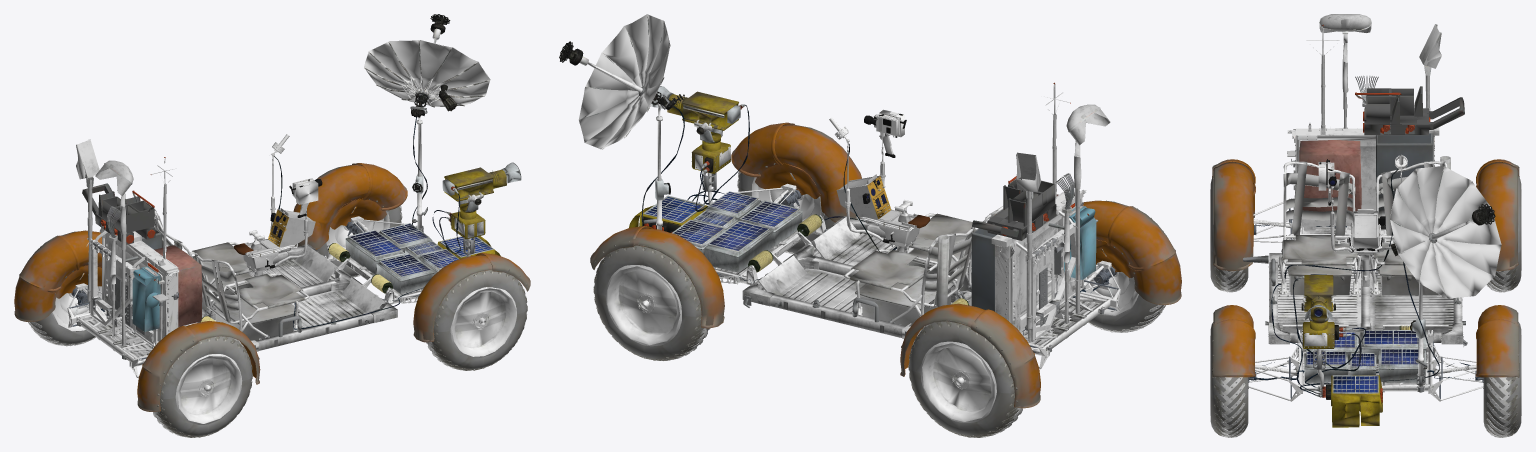
File: lrv.glb
3 renders of one model, left to right at view 1: azimuth 30°, elevation 25°; view 2: azimuth 150°, elevation 25°; view 3: azimuth 270°, elevation 25°, orthographic. The views are drawn at different scales.
Visible parts, largest first — view 1: Object_8, Object_16, Object_11, Object_6, Object_13, Object_17, Object_12, Object_14; view 2: Object_8, Object_16, Object_11, Object_6, Object_13, Object_17, Object_12, Object_14; view 3: Object_8, Object_16, Object_11, Object_17, Object_13, Object_6, Object_14, Object_12.
Part boxes in pixels (left/top/right/bottom): Object_8: left=14, top=163, right=530, bottom=437; Object_16: left=76, top=139, right=202, bottom=346; Object_11: left=274, top=14, right=521, bottom=329; Object_6: left=70, top=243, right=423, bottom=367; Object_13: left=154, top=209, right=309, bottom=340; Object_17: left=364, top=40, right=490, bottom=106; Object_12: left=234, top=134, right=322, bottom=276; Object_14: left=67, top=215, right=485, bottom=377; Object_8: left=590, top=122, right=1181, bottom=437; Object_16: left=971, top=82, right=1110, bottom=342; Object_11: left=559, top=15, right=896, bottom=272; Object_6: left=713, top=214, right=1117, bottom=357; Object_13: left=844, top=206, right=1003, bottom=326; Object_17: left=578, top=14, right=669, bottom=149; Object_12: left=829, top=109, right=930, bottom=252; Object_14: left=691, top=147, right=1120, bottom=369; Object_8: left=1210, top=159, right=1521, bottom=437; Object_16: left=1287, top=14, right=1464, bottom=229; Object_11: left=1271, top=166, right=1495, bottom=427; Object_17: left=1390, top=166, right=1501, bottom=298; Object_13: left=1271, top=156, right=1450, bottom=295; Object_6: left=1243, top=226, right=1467, bottom=393; Object_14: left=1248, top=130, right=1483, bottom=401; Object_12: left=1318, top=154, right=1407, bottom=286.
Size of the model in its own units: 3.09 by 1.77 by 1.78.
9 materials, 7 textured.
